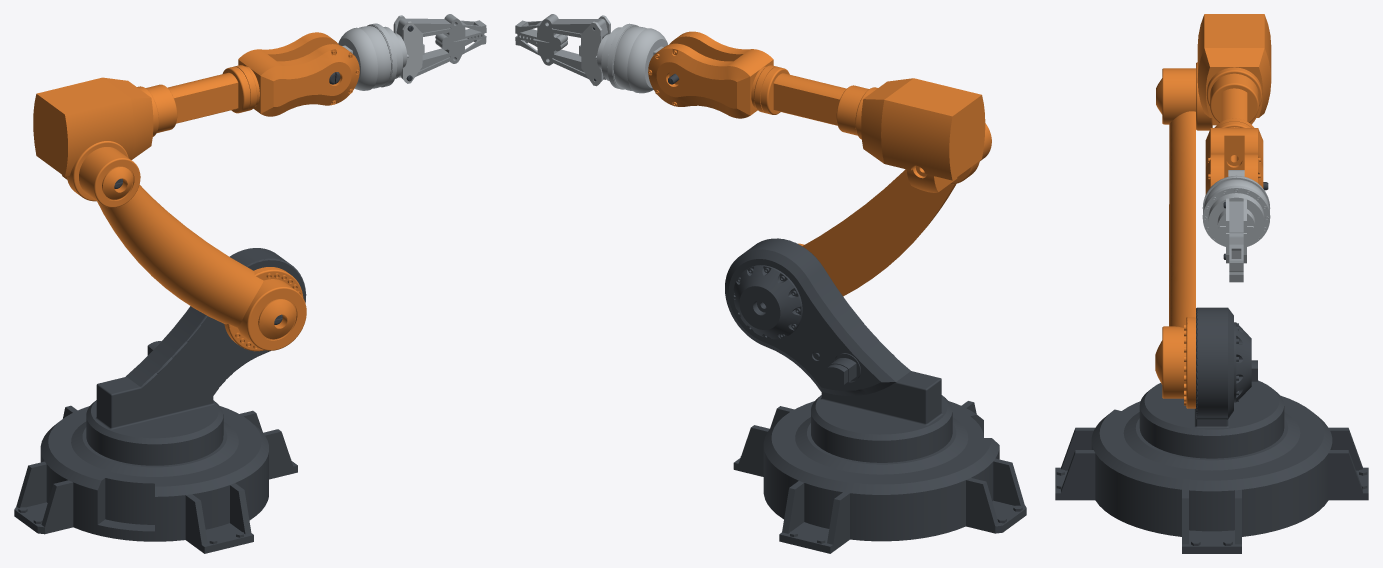
Rendered from robot-arm.glb.
3 views of the same model, side by side, from view 1: azimuth 30°, elevation 25°; view 2: azimuth 150°, elevation 25°; view 3: azimuth 270°, elevation 25° (orthographic). The views are drawn at different scales.
Visible parts, largest first — view 1: NAUO1, NAUO2, NAUO3, NAUO4, NAUO5, NAUO6, NAUO9, NAUO7, NAUO8; view 2: NAUO1, NAUO2, NAUO4, NAUO3, NAUO5, NAUO6, NAUO7, NAUO9, NAUO8; view 3: NAUO1, NAUO2, NAUO3, NAUO4, NAUO5, NAUO7, NAUO6, NAUO9.
Part boxes in pixels (left/top/right/bottom): NAUO1: left=14, top=405, right=297, bottom=553; NAUO2: left=86, top=248, right=306, bottom=465; NAUO3: left=79, top=147, right=306, bottom=351; NAUO4: left=33, top=65, right=257, bottom=201; NAUO5: left=238, top=32, right=359, bottom=116; NAUO6: left=338, top=23, right=397, bottom=90; NAUO9: left=396, top=14, right=486, bottom=49; NAUO7: left=383, top=15, right=424, bottom=83; NAUO8: left=400, top=33, right=486, bottom=76; NAUO1: left=733, top=401, right=1026, bottom=553; NAUO2: left=725, top=238, right=952, bottom=462; NAUO4: left=754, top=65, right=985, bottom=192; NAUO3: left=798, top=123, right=991, bottom=296; NAUO5: left=648, top=31, right=773, bottom=118; NAUO6: left=607, top=23, right=668, bottom=93; NAUO7: left=579, top=15, right=621, bottom=86; NAUO9: left=515, top=14, right=607, bottom=51; NAUO8: left=515, top=34, right=604, bottom=78; NAUO1: left=1055, top=395, right=1368, bottom=553; NAUO2: left=1139, top=307, right=1284, bottom=458; NAUO3: left=1155, top=68, right=1195, bottom=408; NAUO4: left=1196, top=14, right=1271, bottom=157; NAUO5: left=1205, top=127, right=1263, bottom=194; NAUO7: left=1208, top=194, right=1264, bottom=263; NAUO6: left=1202, top=170, right=1270, bottom=246; NAUO9: left=1229, top=201, right=1243, bottom=271.
Size of the model in its own units: 2 by 1.65 by 1.1.
